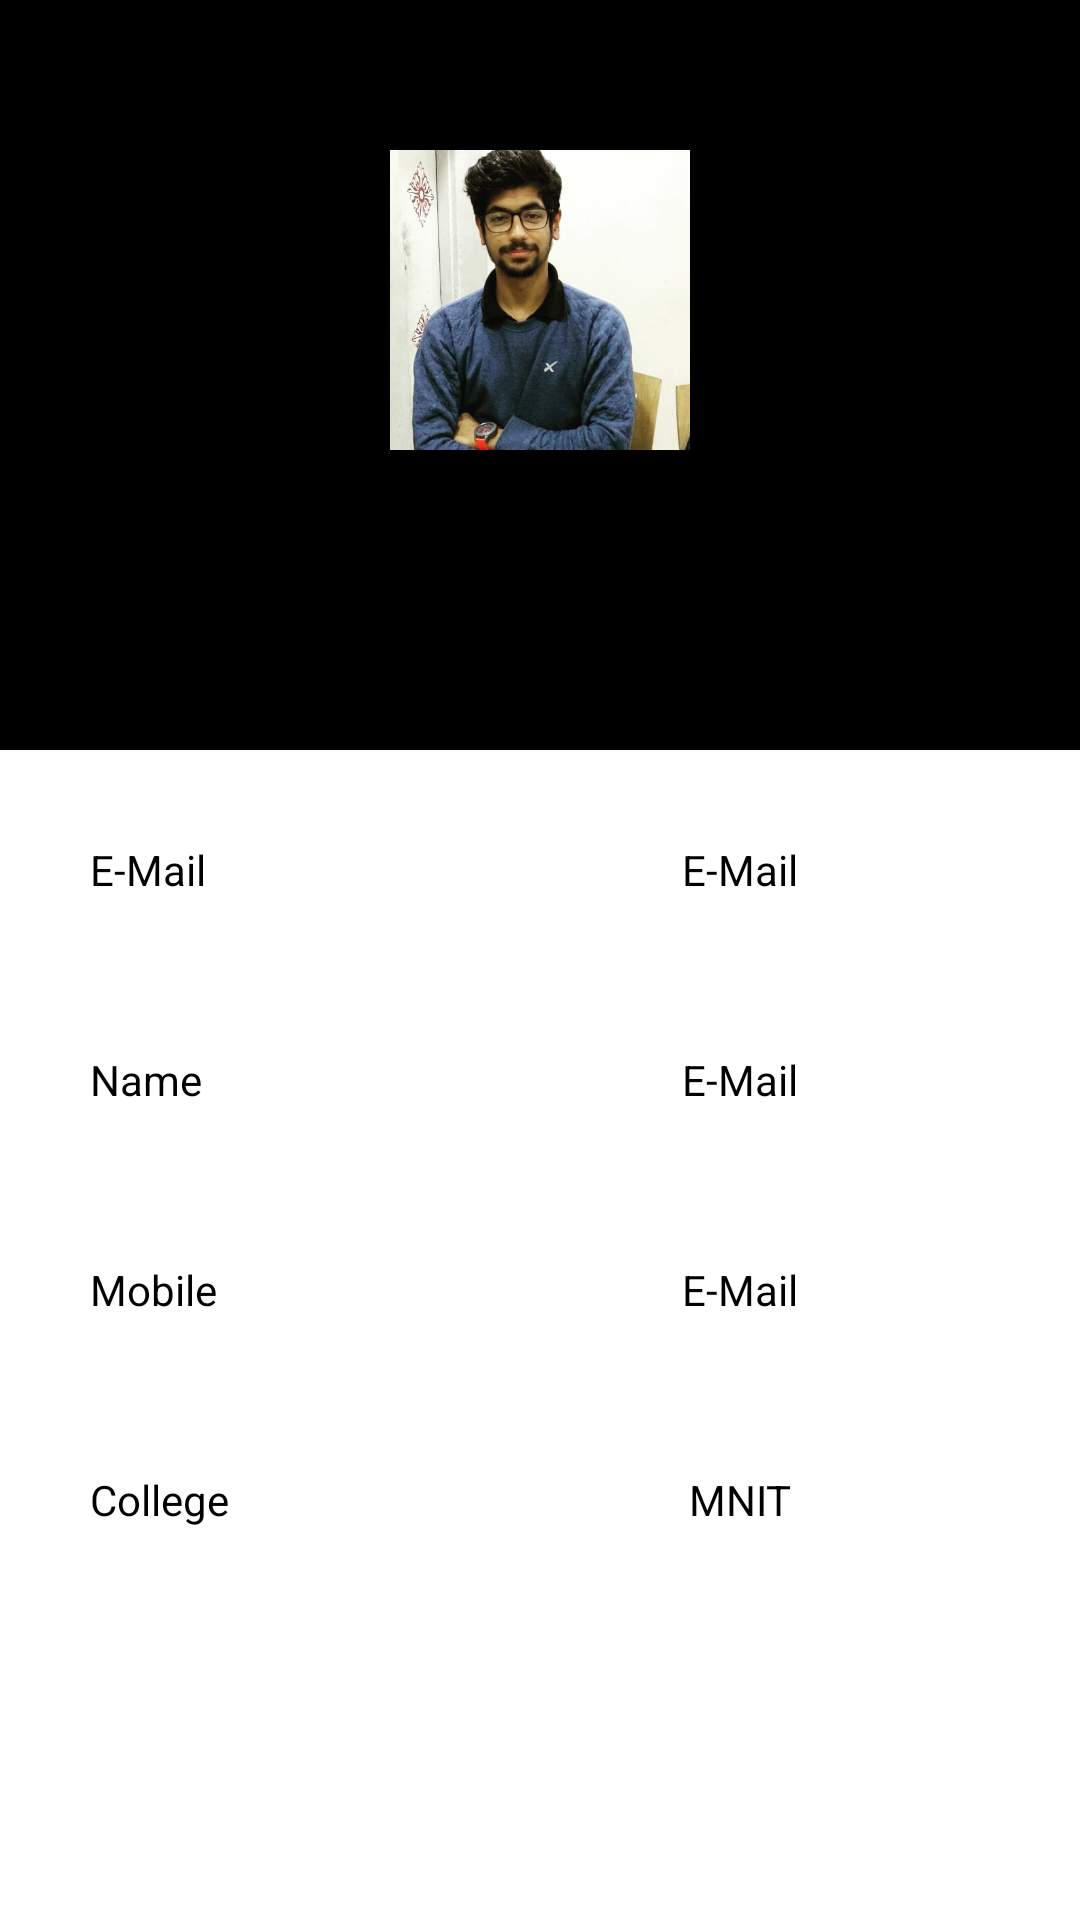

Named icons in this screenshot (1080 x 1920) and their centers, point (x, y):
photo: point (540, 300)
